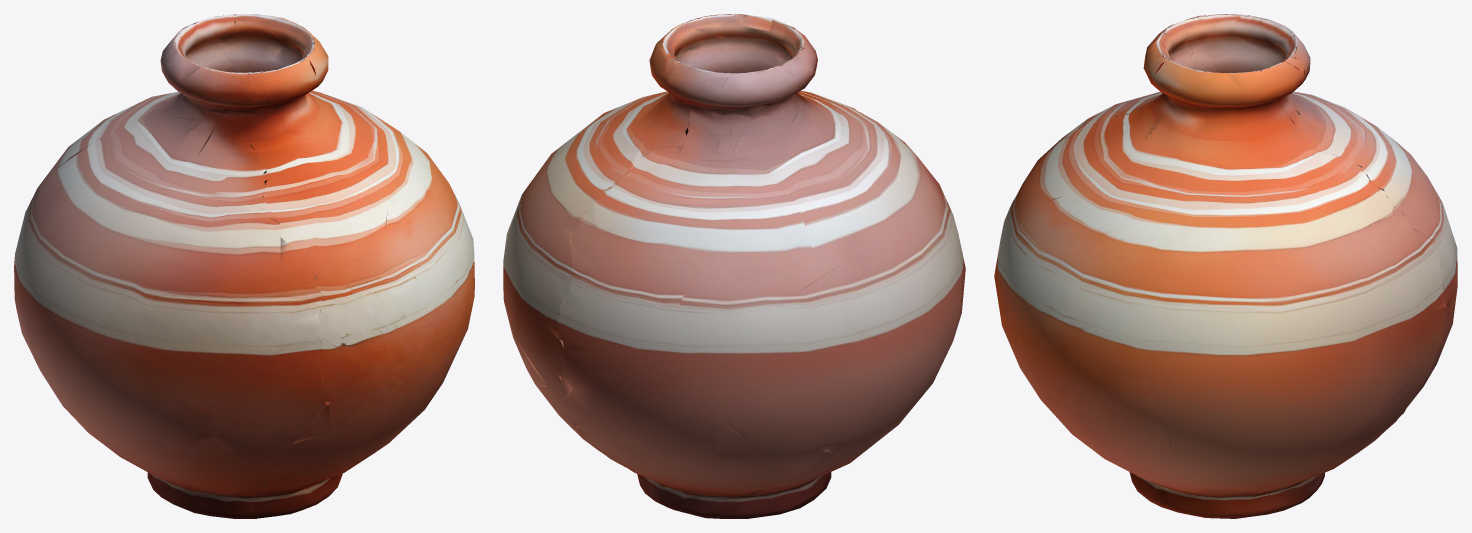
The model's file is matka.glb.
3 renders of one model, left to right at view 1: azimuth 30°, elevation 25°; view 2: azimuth 150°, elevation 25°; view 3: azimuth 270°, elevation 25°, orthographic.
Parts seen in each view (by area): view 1: model; view 2: model; view 3: model.
Part boxes in pixels (left/top/right/bottom): model: left=14, top=14, right=474, bottom=518; model: left=503, top=14, right=965, bottom=518; model: left=994, top=14, right=1457, bottom=518.
Size of the model in its own units: 0.5239 by 0.55 by 0.5226.
1 material, 1 textured.
